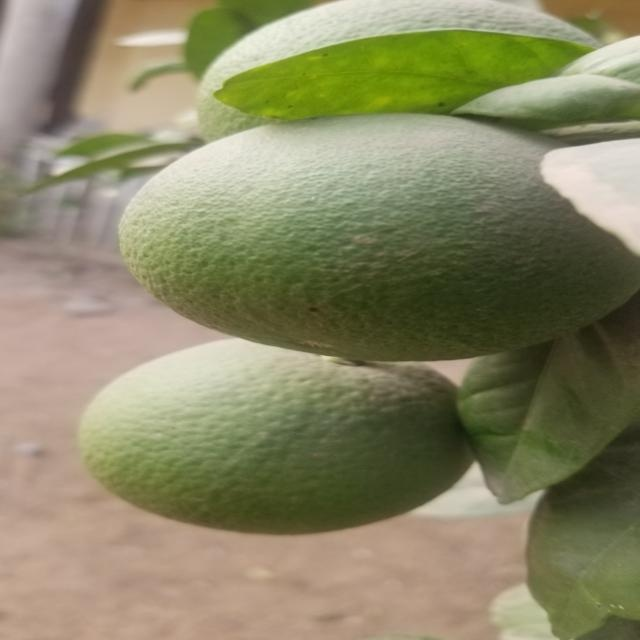agrume: (117, 115, 640, 352), (65, 338, 483, 535), (183, 2, 627, 133)
